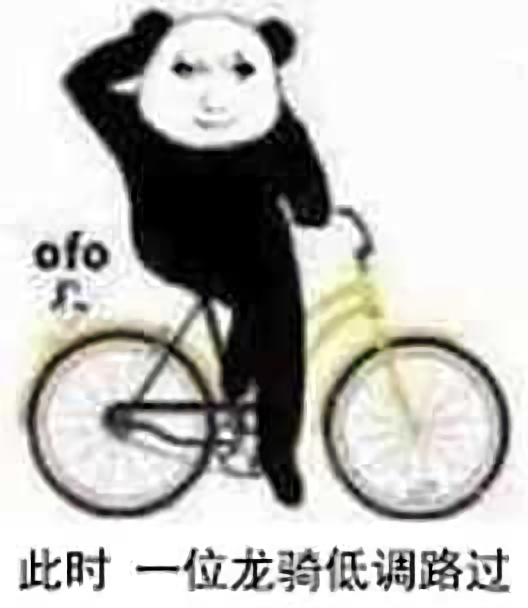dragon: (164, 47, 267, 133)
